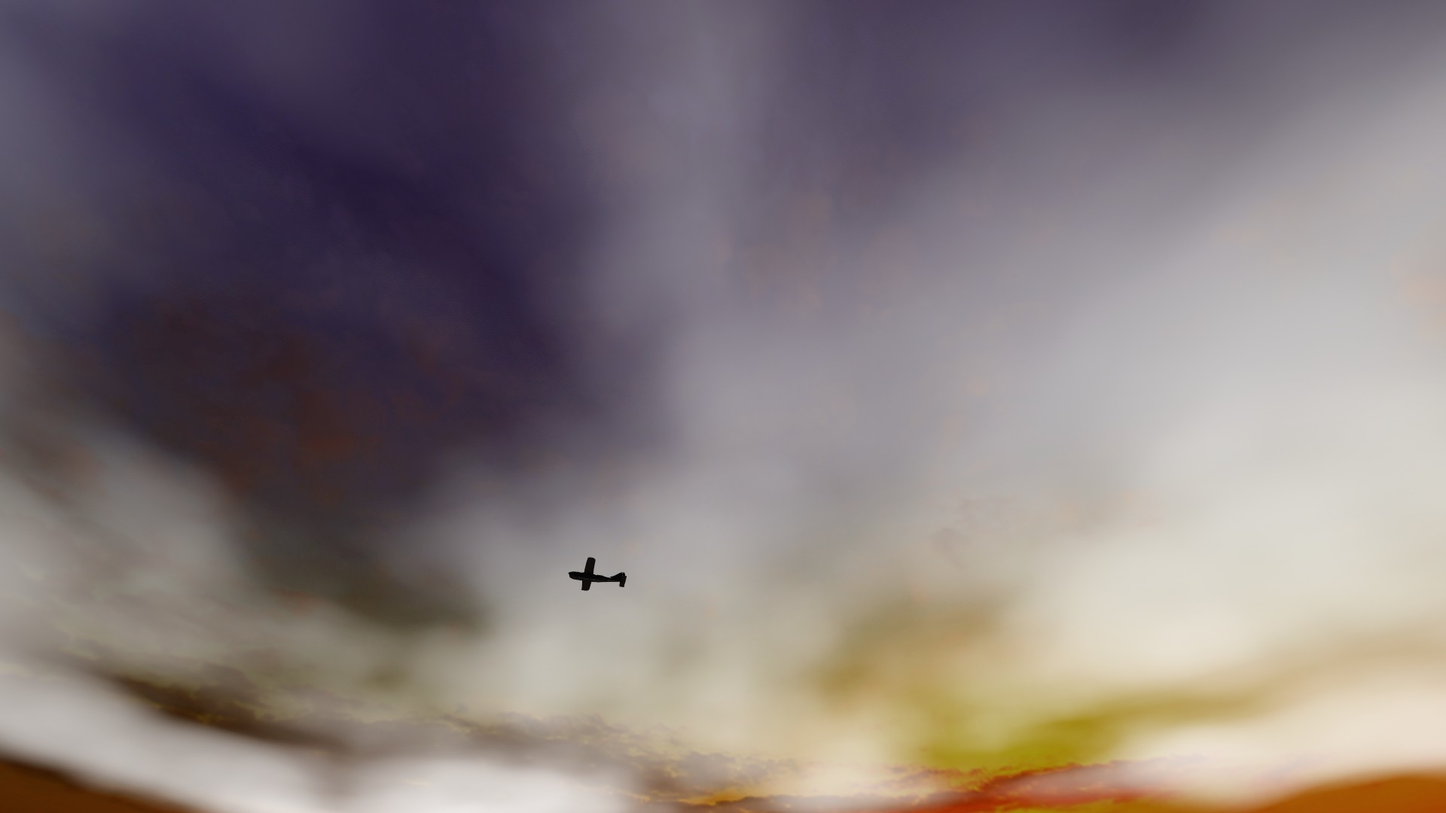drone_other: (567, 557, 627, 591)
